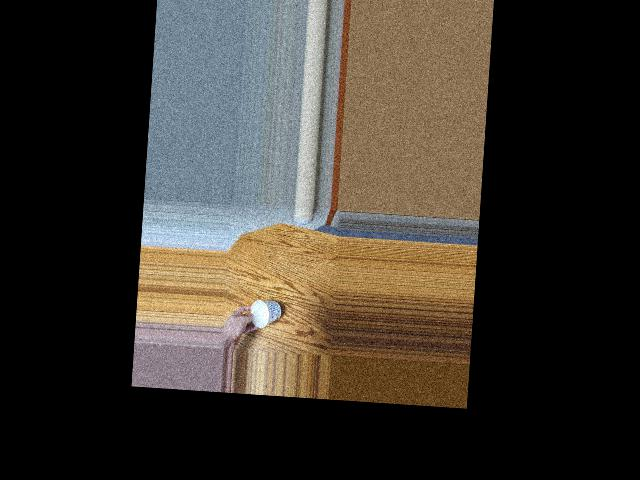cotage: (249, 299, 284, 323)
